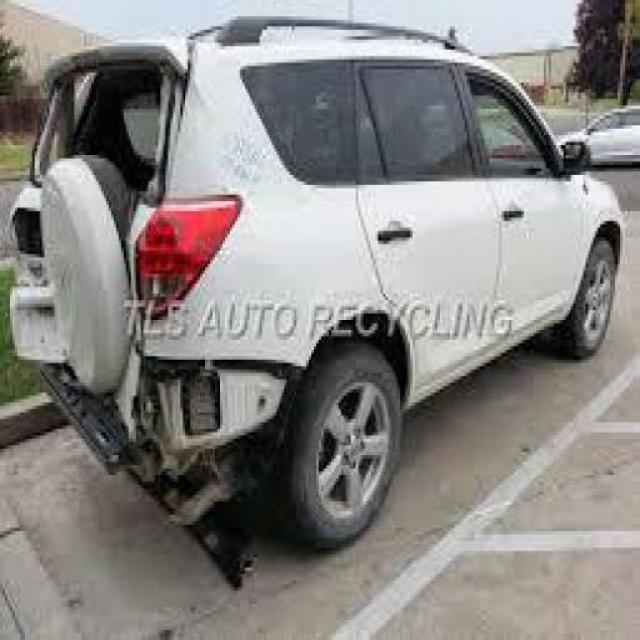crush: (12, 52, 299, 563)
